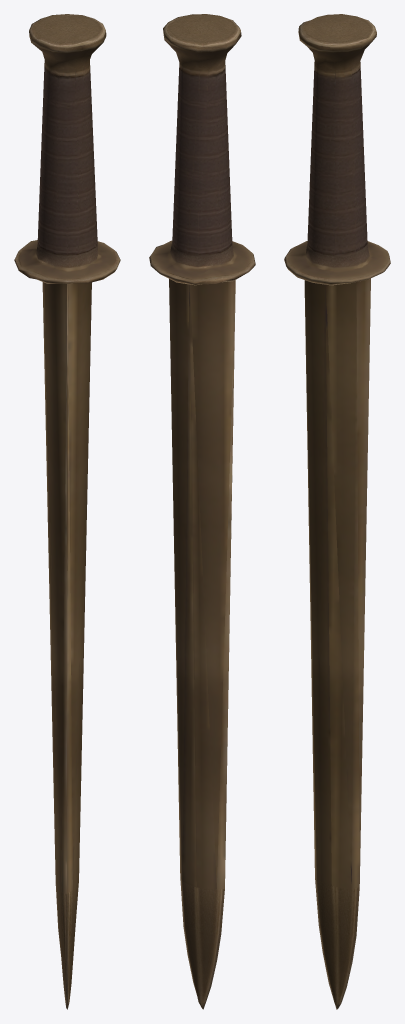
File: Weapon.glb
3 renders of one model, left to right at view 1: azimuth 90°, elevation 25°; view 2: azimuth 150°, elevation 25°; view 3: azimuth 330°, elevation 25°, orthographic.
Size of the model in its own units: 0.1001 by 1 by 0.0984.
1 material, 1 textured.
